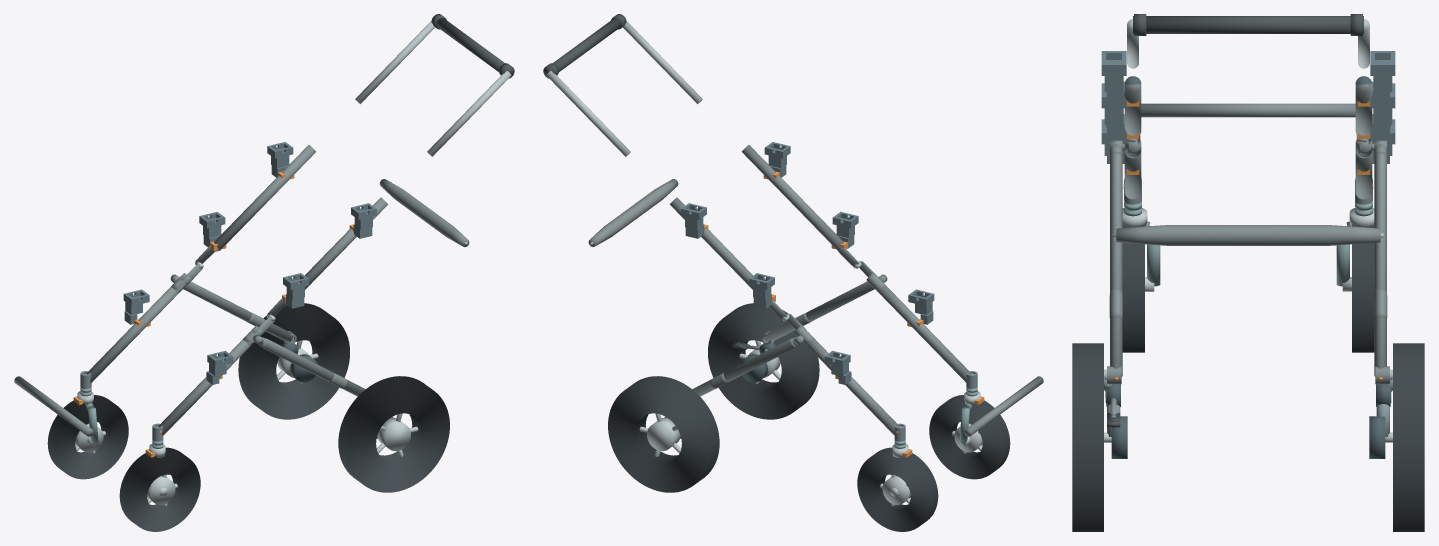
File: w550_state5_wheel_L.glb
3 views of the same model, side by side, from view 1: azimuth 30°, elevation 25°; view 2: azimuth 150°, elevation 25°; view 3: azimuth 270°, elevation 25° (orthographic). The views are drawn at different scales.
Visible parts, largest first — view 1: RL_tire.006, RR_tire.006, FL_tire.006, FR_tire.006, main_upper_1.007, main_lower_1.007, V46_rearbar.007, V46_rear_leg_1.007, main_lower_-1.007, V46_rear_leg_-1.007, round_handle.006, handle_slider_-1.006 (+10 smaller); view 2: RR_tire.006, RL_tire.006, FR_tire.006, FL_tire.006, main_upper_-1.007, main_lower_-1.007, V46_rearbar.007, V46_rear_leg_-1.007, main_lower_1.007, V46_rear_leg_1.007, round_handle.006, handle_slider_1.006 (+10 smaller); view 3: RL_tire.006, RR_tire.006, V46_rearbar.007, round_handle.006, front_fixed_round_tube.006, FL_tire.006, FR_tire.006, V46_rear_leg_1.007, V46_rear_leg_-1.007, Universal_Cabin_Receiver_H_1, Universal_Cabin_Receiver_H_-1, main_upper_1.007 (+11 smaller).
Part boxes in pixels (bbox=[...]): RL_tire.006: bbox=[338, 376, 449, 492]; RR_tire.006: bbox=[238, 303, 349, 419]; FL_tire.006: bbox=[119, 447, 200, 531]; FR_tire.006: bbox=[47, 395, 128, 479]; main_upper_1.007: bbox=[214, 145, 315, 250]; main_lower_1.007: bbox=[86, 284, 184, 383]; V46_rearbar.007: bbox=[379, 179, 469, 246]; V46_rear_leg_1.007: bbox=[183, 281, 293, 342]; main_lower_-1.007: bbox=[158, 339, 253, 435]; V46_rear_leg_-1.007: bbox=[261, 338, 365, 396]; round_handle.006: bbox=[436, 18, 513, 77]; handle_slider_-1.006: bbox=[427, 71, 511, 156]; RR_tire.006: bbox=[608, 376, 719, 492]; RL_tire.006: bbox=[708, 303, 819, 419]; FR_tire.006: bbox=[857, 447, 938, 531]; FL_tire.006: bbox=[929, 395, 1010, 479]; main_upper_-1.007: bbox=[742, 145, 843, 250]; main_lower_-1.007: bbox=[873, 284, 971, 383]; V46_rearbar.007: bbox=[588, 179, 678, 246]; V46_rear_leg_-1.007: bbox=[764, 281, 874, 342]; main_lower_1.007: bbox=[804, 339, 899, 435]; V46_rear_leg_1.007: bbox=[692, 338, 796, 396]; round_handle.006: bbox=[544, 18, 621, 77]; handle_slider_1.006: bbox=[546, 71, 630, 156]; RL_tire.006: bbox=[1072, 343, 1103, 531]; RR_tire.006: bbox=[1393, 343, 1424, 531]; V46_rearbar.007: bbox=[1116, 225, 1380, 245]; round_handle.006: bbox=[1133, 16, 1363, 33]; front_fixed_round_tube.006: bbox=[1141, 103, 1355, 117]; FL_tire.006: bbox=[1122, 223, 1144, 352]; FR_tire.006: bbox=[1352, 223, 1374, 352]; V46_rear_leg_1.007: bbox=[1374, 151, 1386, 376]; V46_rear_leg_-1.007: bbox=[1110, 151, 1122, 376]; Universal_Cabin_Receiver_H_1: bbox=[1370, 51, 1395, 106]; Universal_Cabin_Receiver_H_-1: bbox=[1101, 51, 1126, 106]; main_upper_1.007: bbox=[1355, 76, 1372, 135].
Size of the model in its own units: 1.51 by 1.28 by 0.671.
